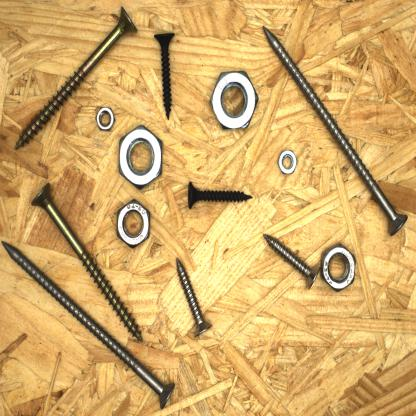screw: (261, 21, 410, 238), (1, 238, 176, 413), (12, 5, 140, 157), (29, 181, 145, 344), (261, 232, 323, 292), (171, 254, 214, 340), (152, 29, 178, 121), (185, 179, 253, 211)
